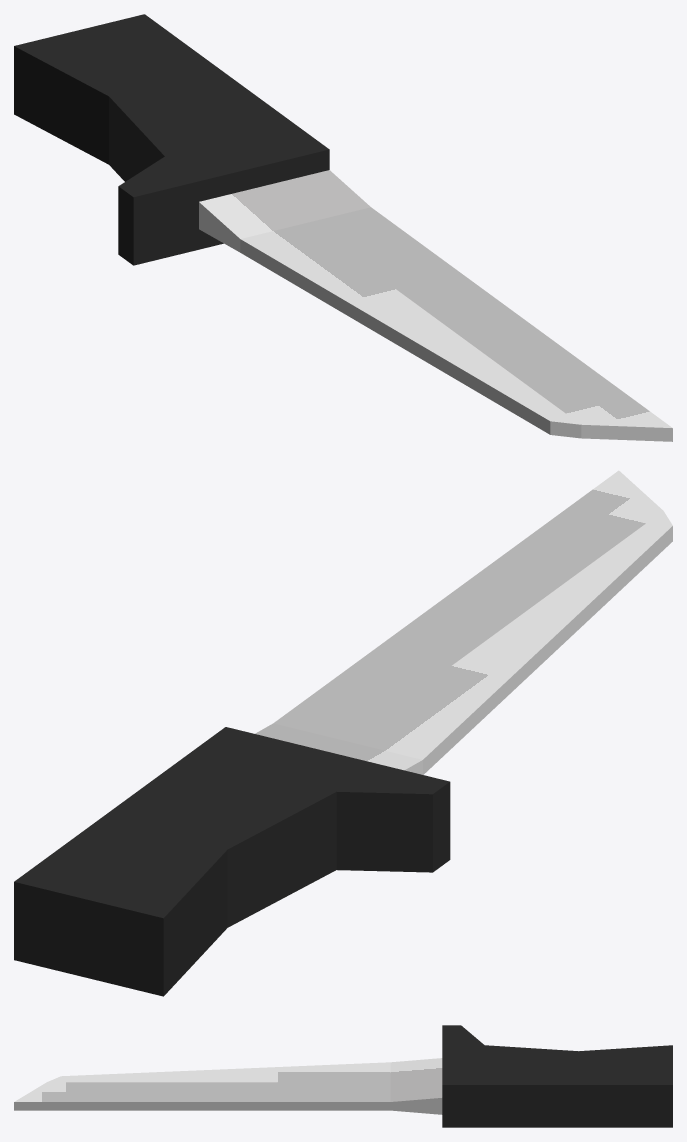
File: Knife.fbx
3 views of the same model, one above another, from view 1: azimuth 30°, elevation 25°; view 2: azimuth 150°, elevation 25°; view 3: azimuth 270°, elevation 25° (orthographic). The views are drawn at different scales.
Visible parts, largest first — view 1: Blade, Handle; view 2: Handle, Blade; view 3: Handle, Blade.
Boxes of the visible parts, box(x1,y1,x2,y2) form: Blade: box(199, 170, 672, 441); Handle: box(14, 14, 329, 265); Handle: box(14, 727, 450, 996); Blade: box(255, 470, 672, 774); Handle: box(442, 1025, 672, 1127); Blade: box(14, 1058, 442, 1114).
Bounding box in the file's own units: 18.75 × 6.25 × 87.5.
1 material, 1 textured.
